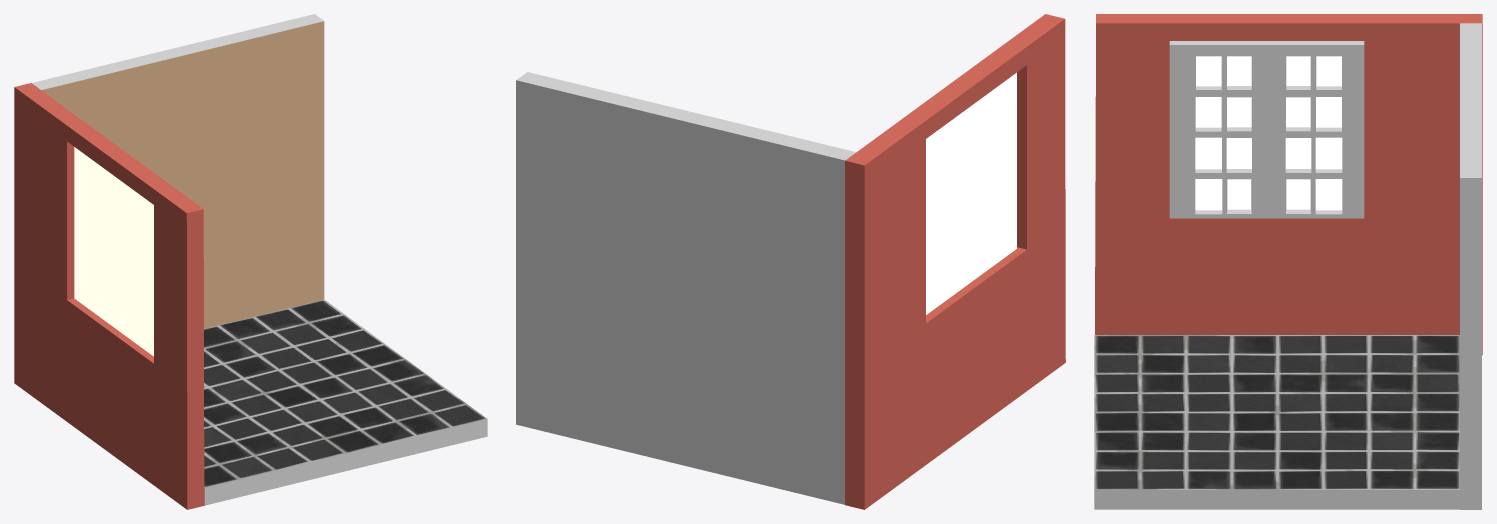
Rendered from PIECE.gltf.
3 views of the same model, side by side, from view 1: azimuth 30°, elevation 25°; view 2: azimuth 150°, elevation 25°; view 3: azimuth 270°, elevation 25° (orthographic). The views are drawn at different scales.
Visible parts, largest first — view 1: Cube.001; view 2: Cube.001; view 3: Cube.001.
Part boxes in pixels (x1,y1,x2,y2): Cube.001: (14,14,487,509); Cube.001: (516,14,1065,509); Cube.001: (1094,14,1482,509).
Size of the model in its own units: 2.12 by 2 by 2.12.
Materials: 7 (1 with a texture image).
